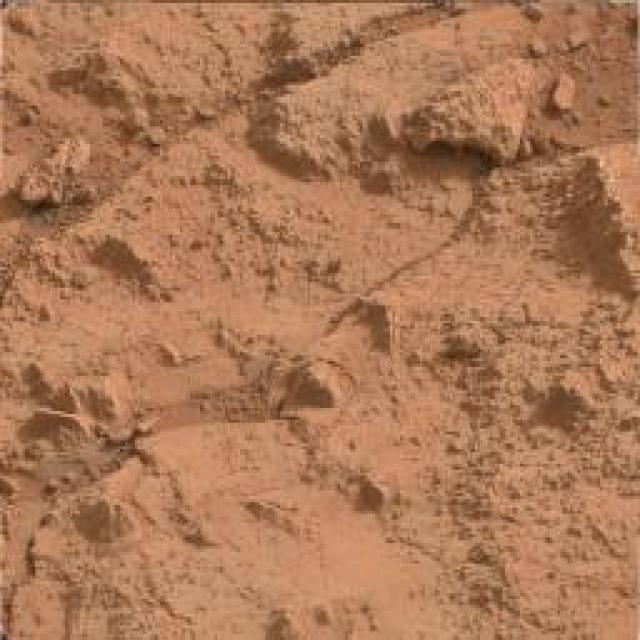rock: (410, 65, 536, 164), (51, 44, 180, 138), (564, 142, 640, 298), (15, 140, 96, 206), (96, 236, 176, 298), (58, 381, 136, 442), (358, 296, 409, 354), (548, 371, 600, 425), (444, 306, 492, 360), (296, 366, 351, 410), (80, 498, 137, 540), (550, 74, 580, 113), (364, 476, 396, 508), (570, 27, 602, 50), (528, 36, 548, 56), (526, 1, 548, 18)
